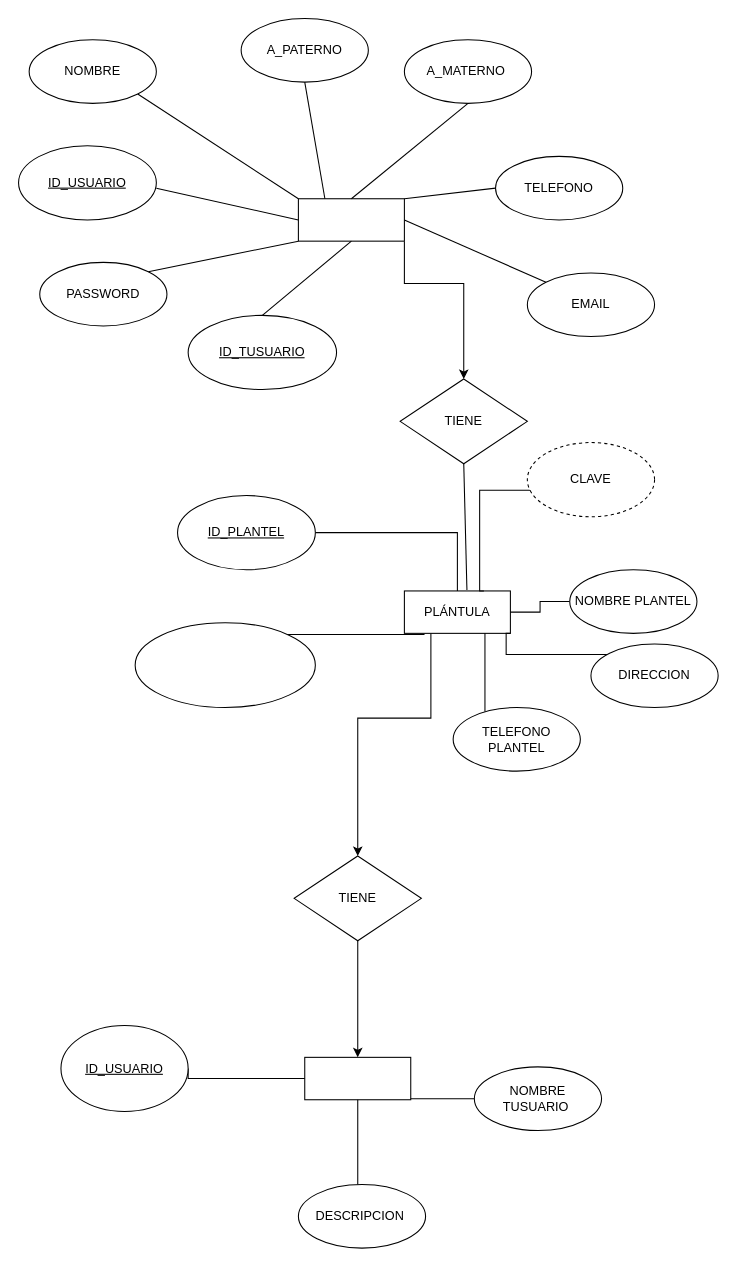
Image size: 737x1267. Some labels were removed from this diagram. The shapes that lost their labels are listed below. From the top down, each one's box as (x1, y1, x2, y2) in pixels, then its label:
(297, 198, 404, 241): USUARIO
(134, 622, 315, 708): Correo electrónico
(304, 1056, 411, 1100): TUSUARIO
